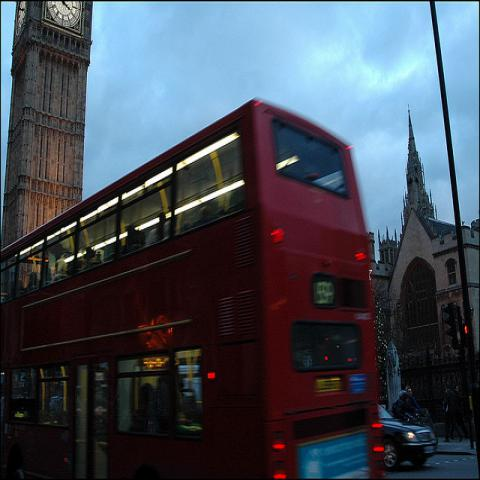bus: (0, 99, 387, 475)
car: (380, 406, 436, 479)
motorcycle: (407, 414, 437, 436)
